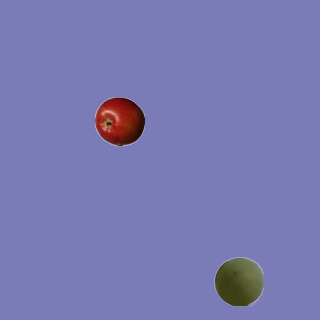Apple Braeburn: (94, 96, 144, 146)
Grape White 4: (213, 256, 263, 306)
